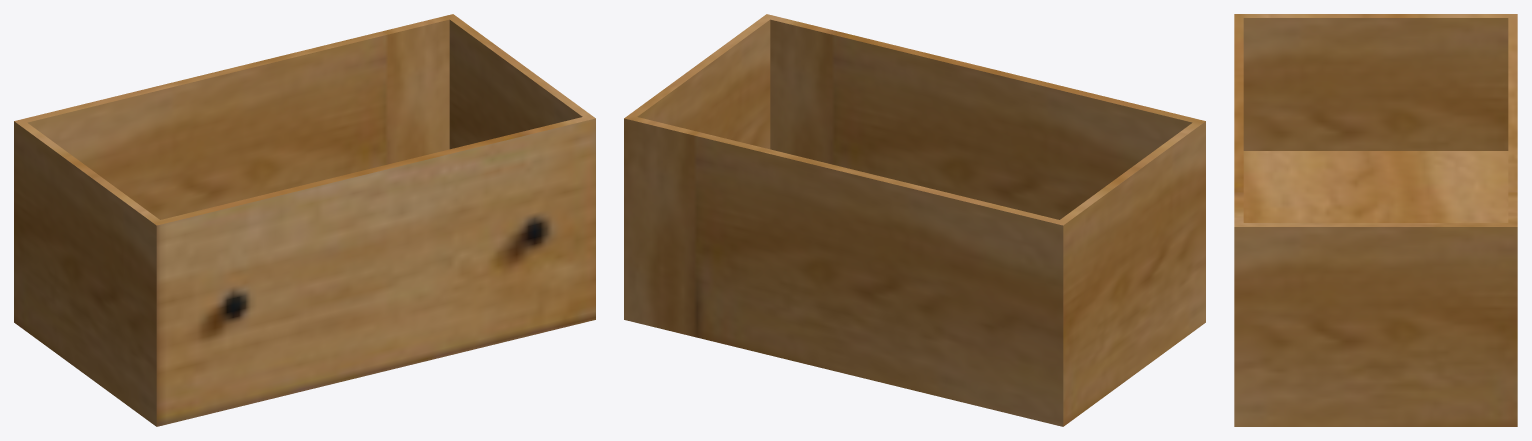
File: Chest_drawers_04_005-col.glb
The picture shows the model from 3 angles, left to right: view 1: azimuth 30°, elevation 25°; view 2: azimuth 150°, elevation 25°; view 3: azimuth 270°, elevation 25°; orthographic projection.
Parts seen in each view (by area): view 1: Chest_drawers_04.005-col; view 2: Chest_drawers_04.005-col; view 3: Chest_drawers_04.005-col.
Part boxes in pixels (x1,y1,x2,y2): Chest_drawers_04.005-col: (14,14,595,426); Chest_drawers_04.005-col: (624,14,1205,426); Chest_drawers_04.005-col: (1234,14,1517,426).
Size of the model in its own units: 0.6732 by 0.295 by 0.3788.
Materials: 1 (1 with a texture image).
